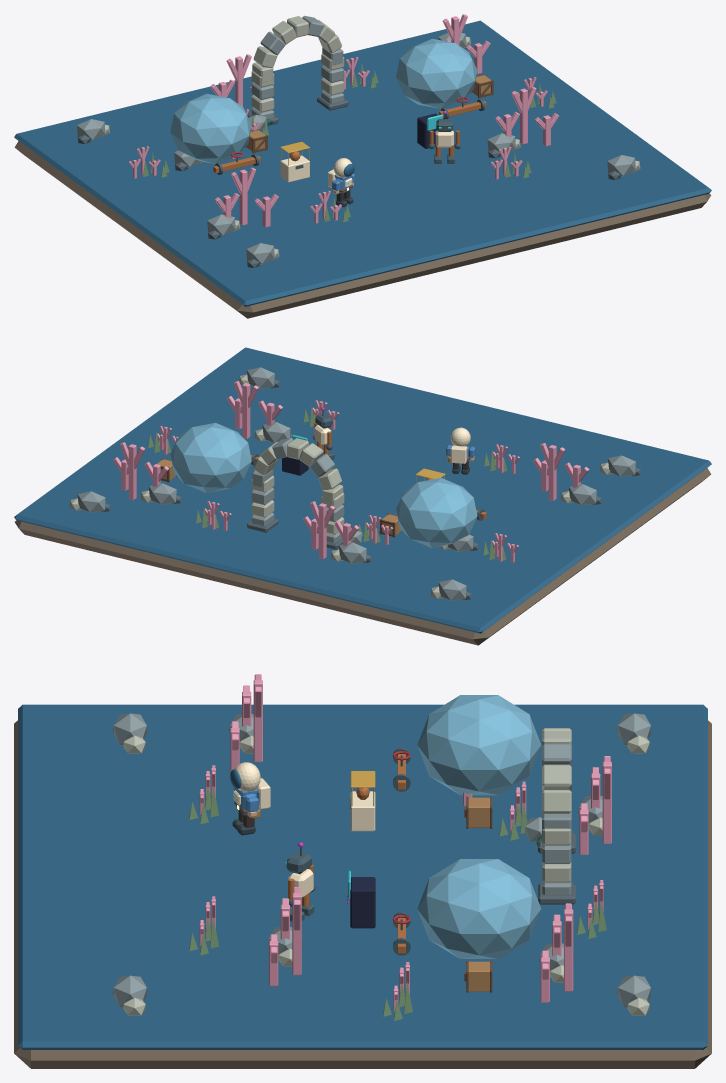
File: world-underwater.glb
3 views of the same model, one above another, from view 1: azimuth 30°, elevation 25°; view 2: azimuth 150°, elevation 25°; view 3: azimuth 270°, elevation 25° (orthographic). The views are drawn at different scales.
Parts seen in each view (by area): view 1: terrain-top, terrain-stratum, undersea-pod.001, undersea-pod, display-plinth.001; view 2: terrain-top, terrain-stratum, undersea-pod.001, undersea-pod, rock.018, rock.027, rock.024, rock.021, rock.003, rock.012, rock.015; view 3: terrain-top, terrain-stratum, undersea-pod, undersea-pod.001, terminal-base.001, display-plinth.001, rock.018, rock.024, rock.021, rock.027, arch-stone.011, arch-stone.010 (+7 smaller).
Boxes of the visible parts, x1,y1,x2,y2 form: terrain-top: (14,20,711,306); terrain-stratum: (14,141,711,318); undersea-pod.001: (396,38,477,108); undersea-pod: (170,93,251,163); display-plinth.001: (280,155,309,182); terrain-top: (14,347,711,633); terrain-stratum: (15,468,711,645); undersea-pod.001: (170,422,251,492); undersea-pod: (396,478,477,547); rock.018: (608,455,635,476); rock.027: (77,491,105,512); rock.024: (438,579,466,600); rock.021: (247,367,274,388); rock.003: (569,484,596,505); rock.012: (148,483,176,504); rock.015: (339,542,366,563); terrain-top: (18,704,707,1049); terrain-stratum: (14,720,711,1068); undersea-pod: (417,695,541,795); undersea-pod.001: (417,859,541,958); terminal-base.001: (350,877,375,928); display-plinth.001: (350,791,375,831); rock.018: (113,713,146,745); rock.024: (617,713,650,745); rock.021: (113,975,146,1007); rock.027: (617,975,650,1007); arch-stone.011: (542,764,571,790); arch-stone.010: (542,790,571,813).
Bounding box in the file's own units: 21 × 4.82 × 18.
